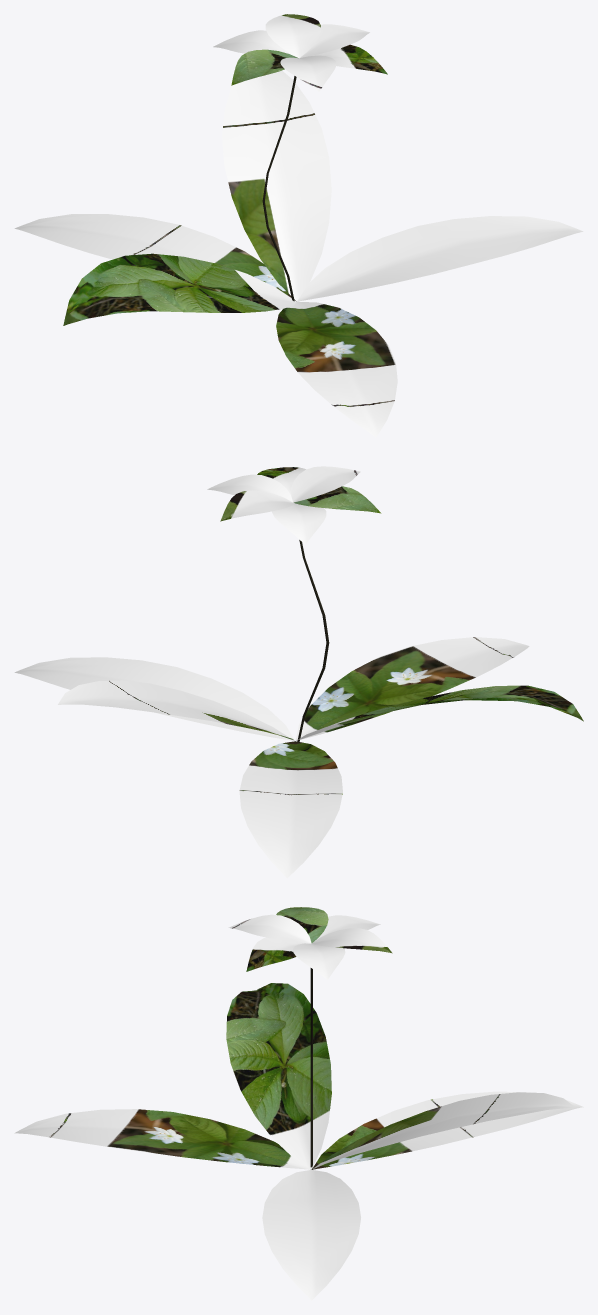
Rendered from metsätähti.fbx.
3 renders of one model, top to bottom at view 1: azimuth 30°, elevation 25°; view 2: azimuth 150°, elevation 25°; view 3: azimuth 270°, elevation 25°, orthographic. The views are drawn at different scales.
Visible parts, largest first — view 1: Circle.005; view 2: Circle.005; view 3: Circle.005.
Part boxes in pixels (x1,y1,x2,y2): Circle.005: [14, 14, 583, 437]; Circle.005: [14, 466, 583, 878]; Circle.005: [14, 907, 583, 1300].
Size of the model in its own units: 1204 by 590 by 1153.
Materials: 1 (1 with a texture image).
